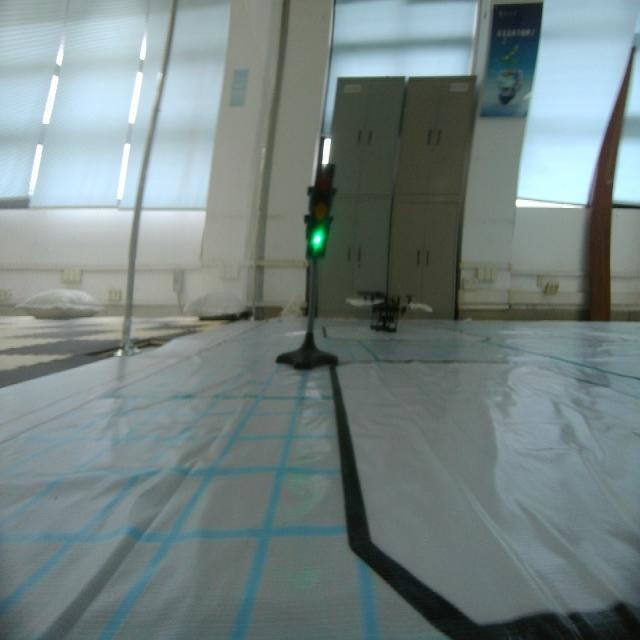green: (298, 158, 342, 262)
